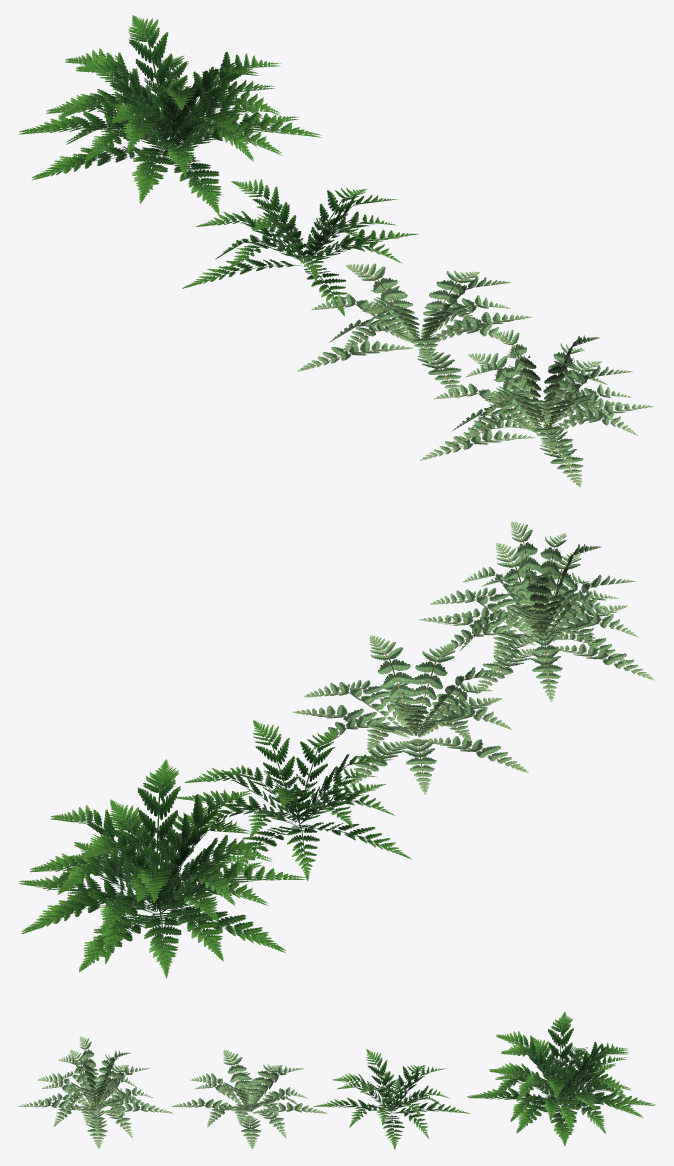
File: FERNS.fbx
3 views of the same model, one above another, from view 1: azimuth 30°, elevation 25°; view 2: azimuth 150°, elevation 25°; view 3: azimuth 270°, elevation 25° (orthographic). The views are drawn at different scales.
Parts seen in each view (by area): view 1: FERN 1 BUSHY, FERN 2 BUSHY, FERN 2 SIMPLE, FERN 1 SIMPLE, Plane015, Plane010; view 2: FERN 1 BUSHY, FERN 2 BUSHY, FERN 2 SIMPLE, FERN 1 SIMPLE, Plane015, Plane010; view 3: FERN 1 BUSHY, FERN 2 BUSHY, FERN 2 SIMPLE, FERN 1 SIMPLE, Plane015, Plane010.
Part boxes in pixels (box(x1,y1,x2,y2)): FERN 1 BUSHY: box(19, 15, 321, 213); FERN 2 BUSHY: box(420, 329, 653, 487); FERN 2 SIMPLE: box(298, 263, 531, 397); FERN 1 SIMPLE: box(182, 179, 418, 315); Plane015: box(298, 266, 531, 398); Plane010: box(183, 183, 414, 314); FERN 1 BUSHY: box(19, 759, 305, 978); FERN 2 BUSHY: box(419, 521, 654, 701); FERN 2 SIMPLE: box(292, 635, 528, 794); FERN 1 SIMPLE: box(176, 720, 411, 881); Plane015: box(292, 637, 527, 794); Plane010: box(182, 725, 409, 878); FERN 1 BUSHY: box(467, 1012, 655, 1146); FERN 2 BUSHY: box(18, 1036, 173, 1148); FERN 2 SIMPLE: box(171, 1049, 327, 1148); FERN 1 SIMPLE: box(313, 1049, 469, 1149); Plane015: box(171, 1052, 327, 1149); Plane010: box(322, 1053, 470, 1144).
Size of the model in its own units: 53.55 by 26 by 175.
2 materials, 2 textured.
